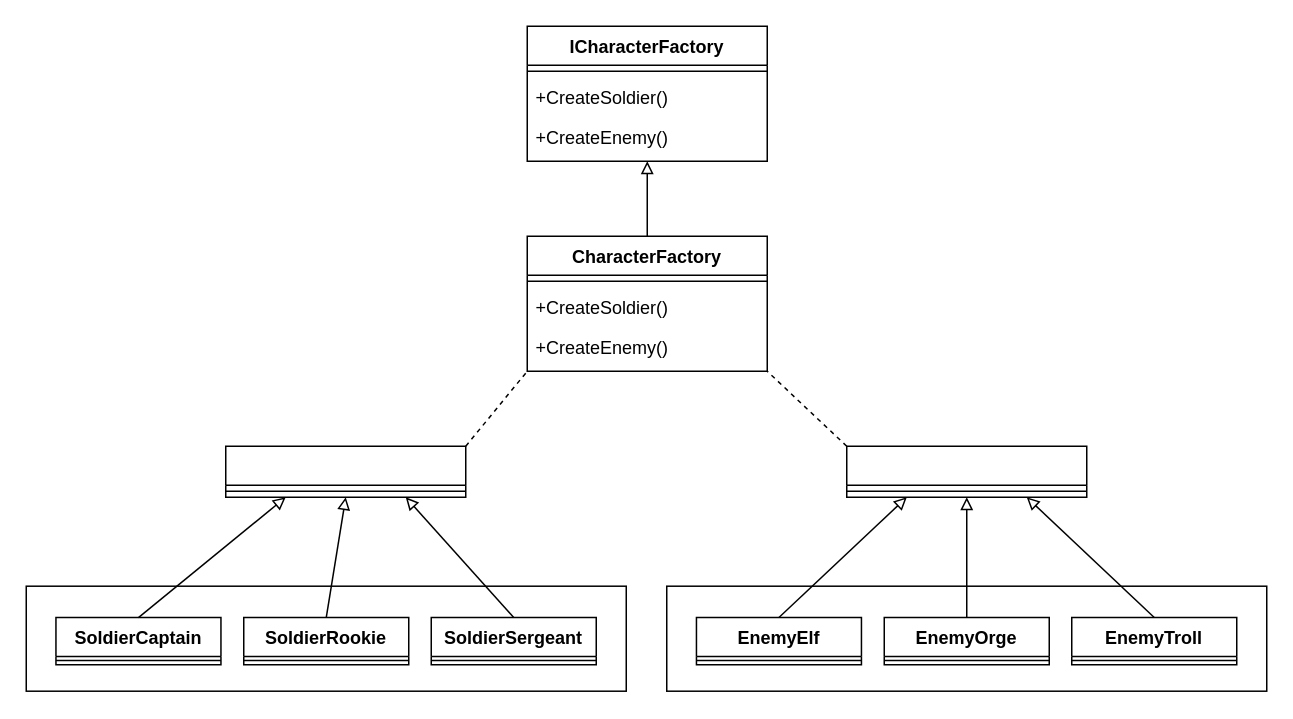
The diagram is 1293 pixels wide and 719 high, and some of its shapes have lost their labels. The centre of each missing label's shape, as x and y in pixels:
"IEnemy" belongs at point (966, 471).
"ISoldier" belongs at point (345, 471).
